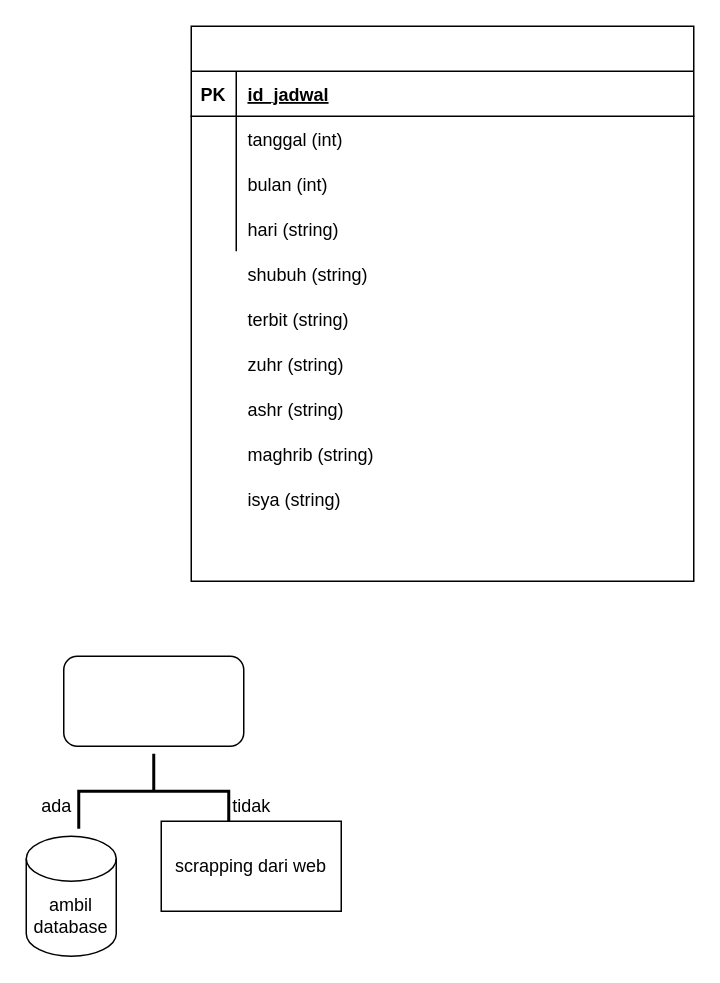
Image size: 720x983. Some labels were removed from this diagram. Here are the shapes that lost their labels. From the top down, the box of each, then its label:
(190, 25, 694, 581): jadwal_sholat
(62, 655, 244, 746): kabupaten
